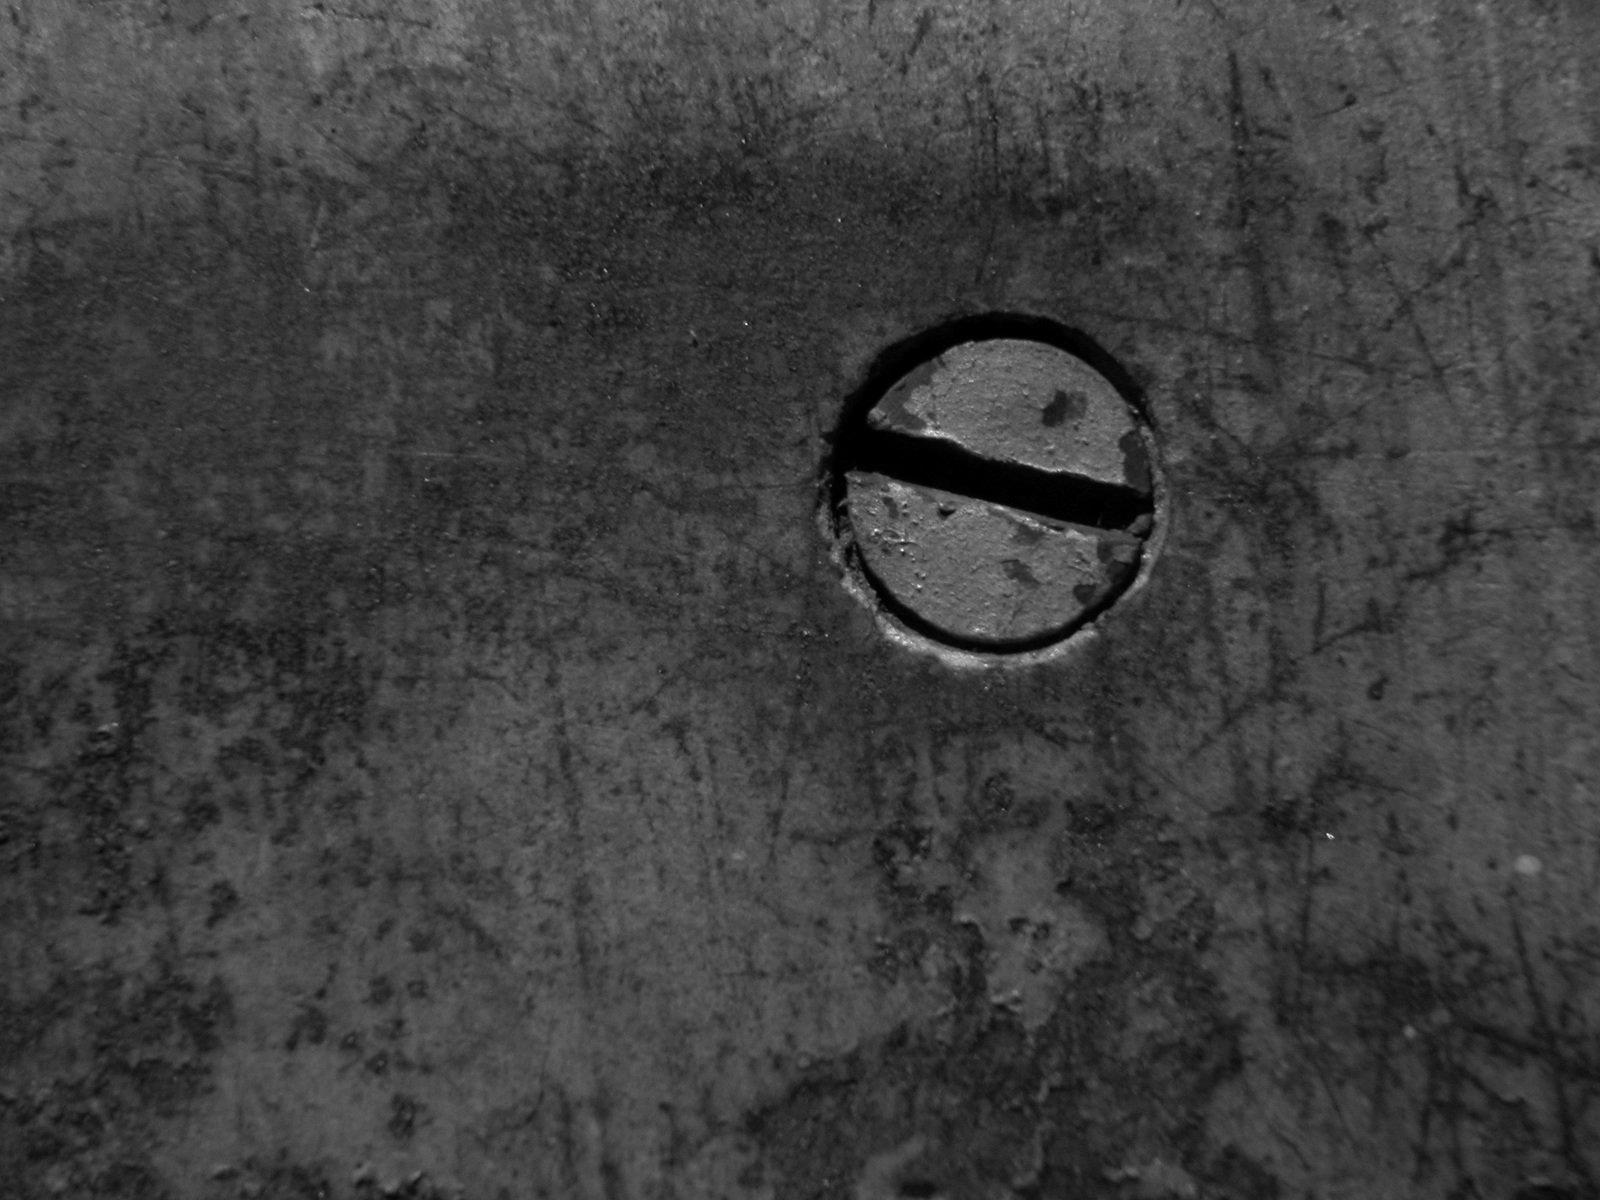slotted: (823, 308, 1165, 667)
